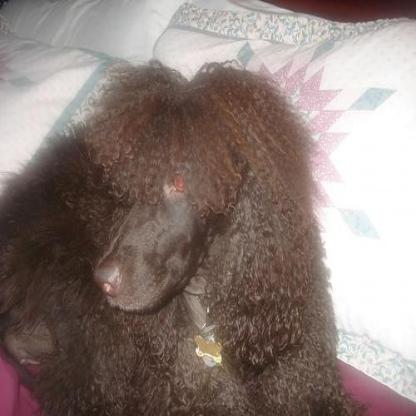Irish_water_spaniel: (0, 53, 376, 414)
